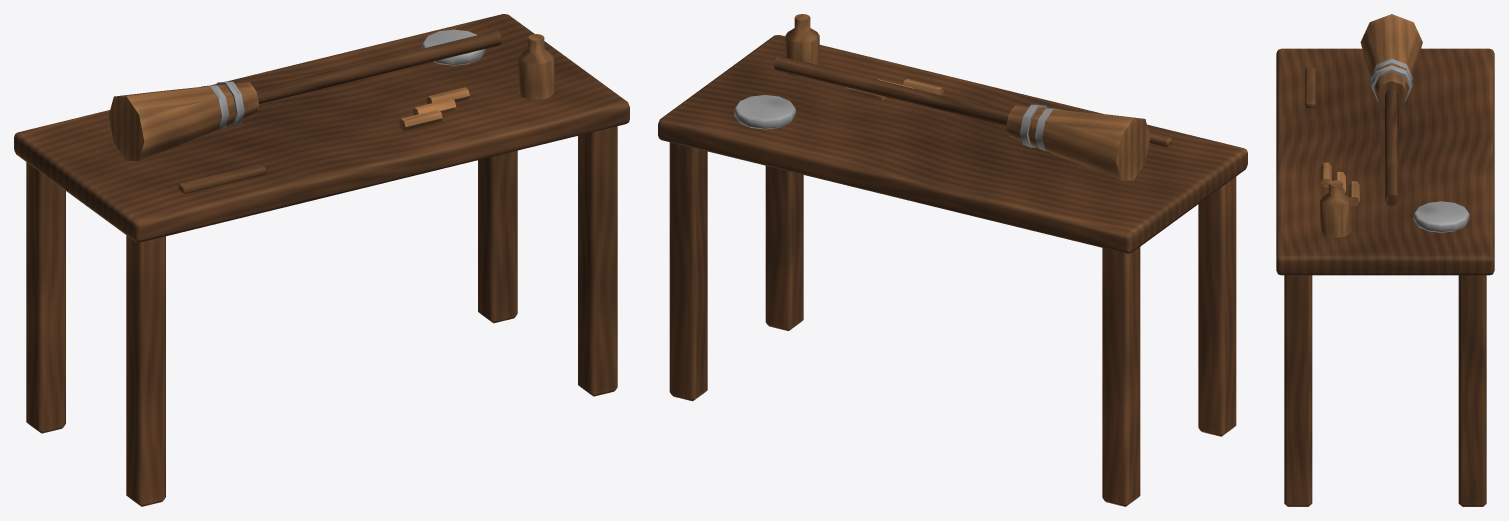
File: Furn_Broom_Workbench.fbx
3 renders of one model, left to right at view 1: azimuth 30°, elevation 25°; view 2: azimuth 150°, elevation 25°; view 3: azimuth 270°, elevation 25°, orthographic. The views are drawn at different scales.
Visible parts, largest first — view 1: Furn_Broom_Workbench; view 2: Furn_Broom_Workbench; view 3: Furn_Broom_Workbench.
Boxes of the visible parts, box(x1,y1,x2,y2) form: Furn_Broom_Workbench: box(14, 14, 629, 506); Furn_Broom_Workbench: box(658, 14, 1247, 506); Furn_Broom_Workbench: box(1276, 14, 1494, 506).
Bounding box in the file's own units: 1.6 × 1.1 × 0.7.
3 materials, 3 textured.
